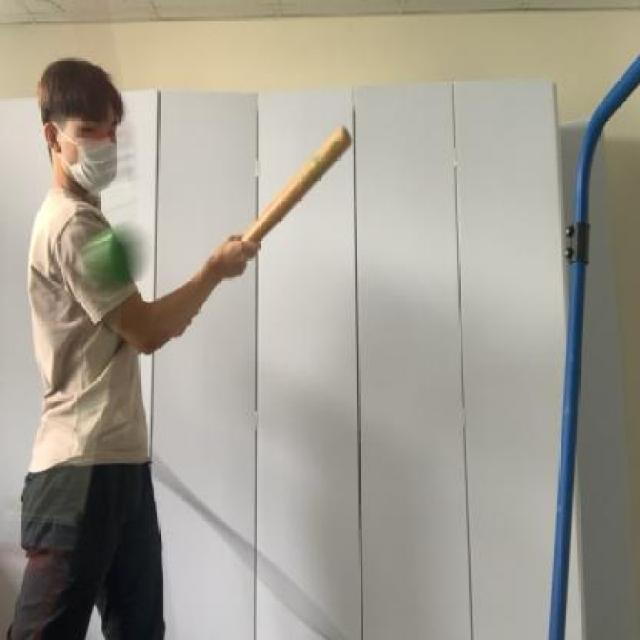baseball: (80, 222, 152, 286)
